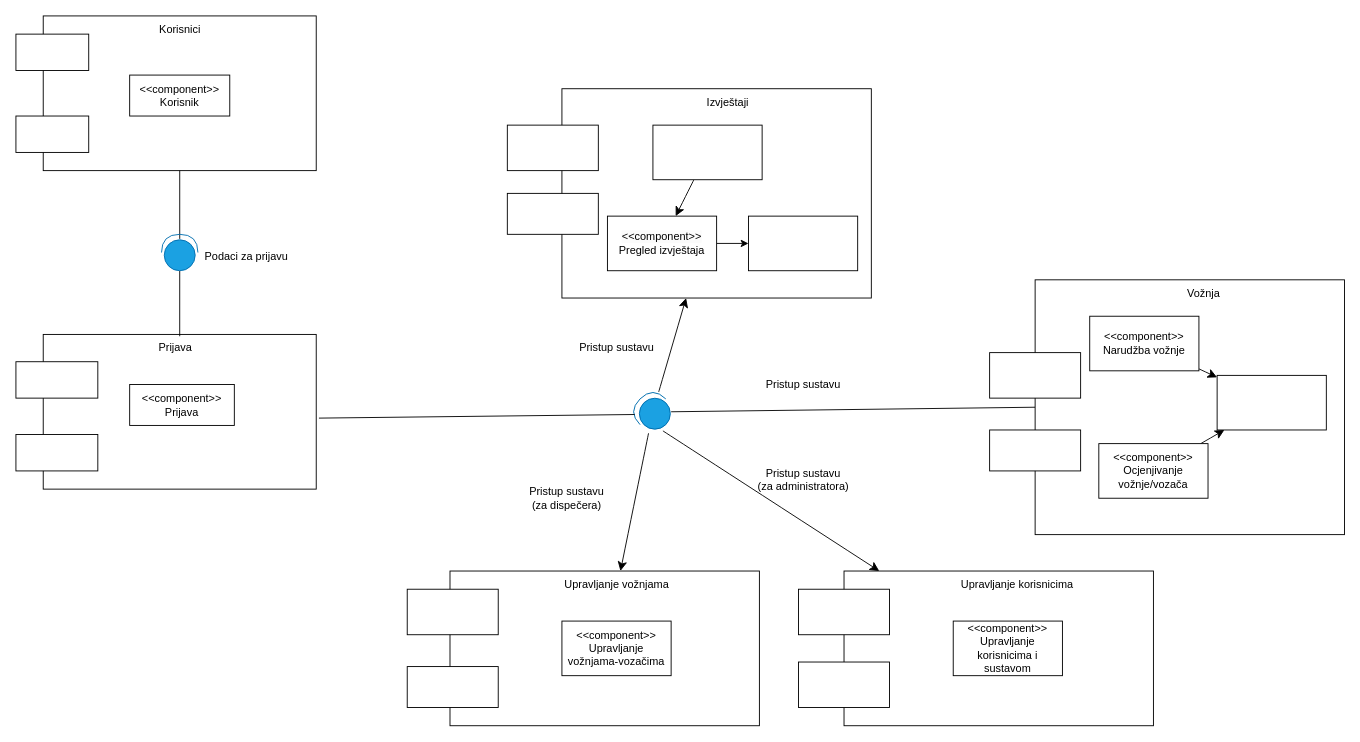
The diagram is 1360 pixels wide and 742 high, and some of its shapes have lost their labels. The shapes that lost their labels are listed below. From the top down, each one's centre as x and y in pixels, then its label:
At (707,152): "<<component>> Generiranje izvještaja".
At (803,243): "<<component>> Brisanje izvještaja".
At (1271,402): "<<component>> Vožnja".
